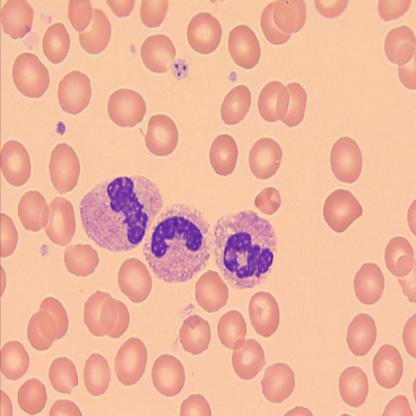Band Neutrophil: (79, 170, 165, 255), (141, 199, 212, 284), (210, 206, 279, 292)
